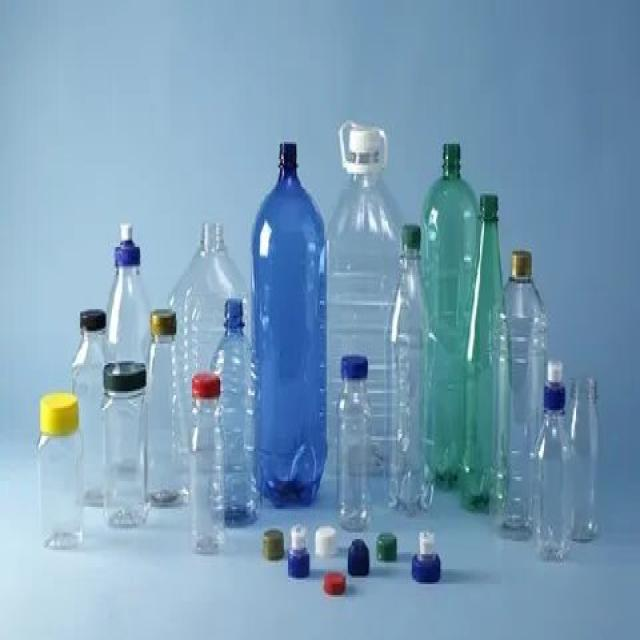blue: (424, 144, 470, 487), (462, 193, 506, 509)
